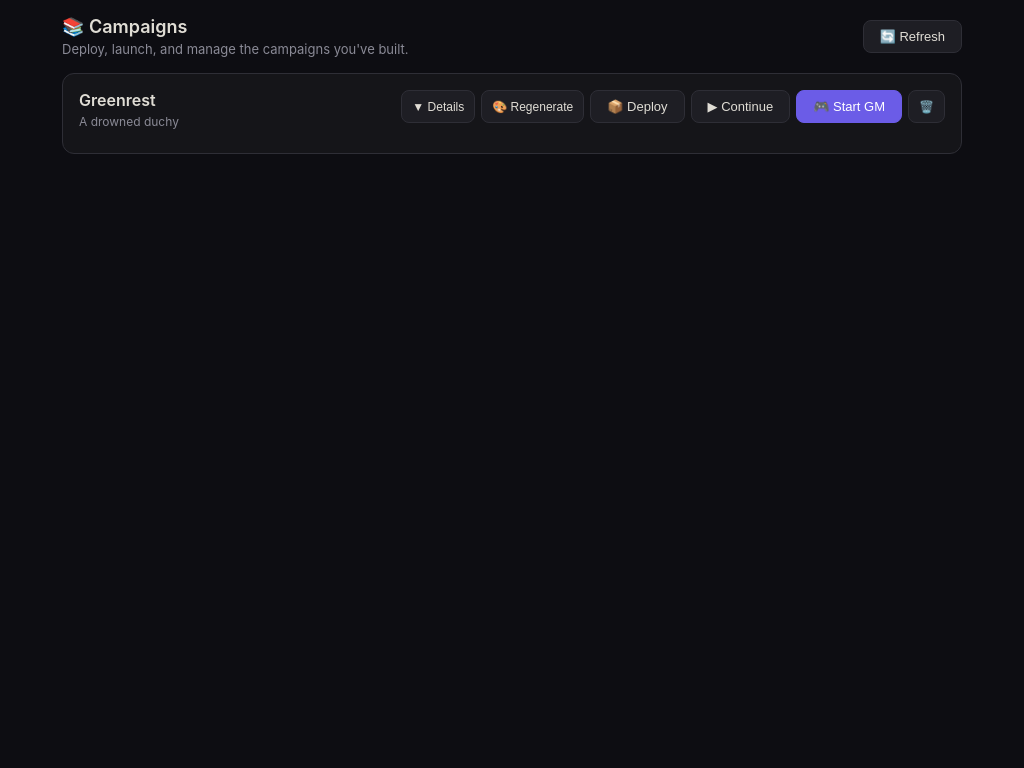
it: CampaignStart — campaign details › loads the details once and shows them
This screenshot has width=1024, height=768.
Click the button "▼ Details" at coordinates (438, 106), box [401,90,475,123]
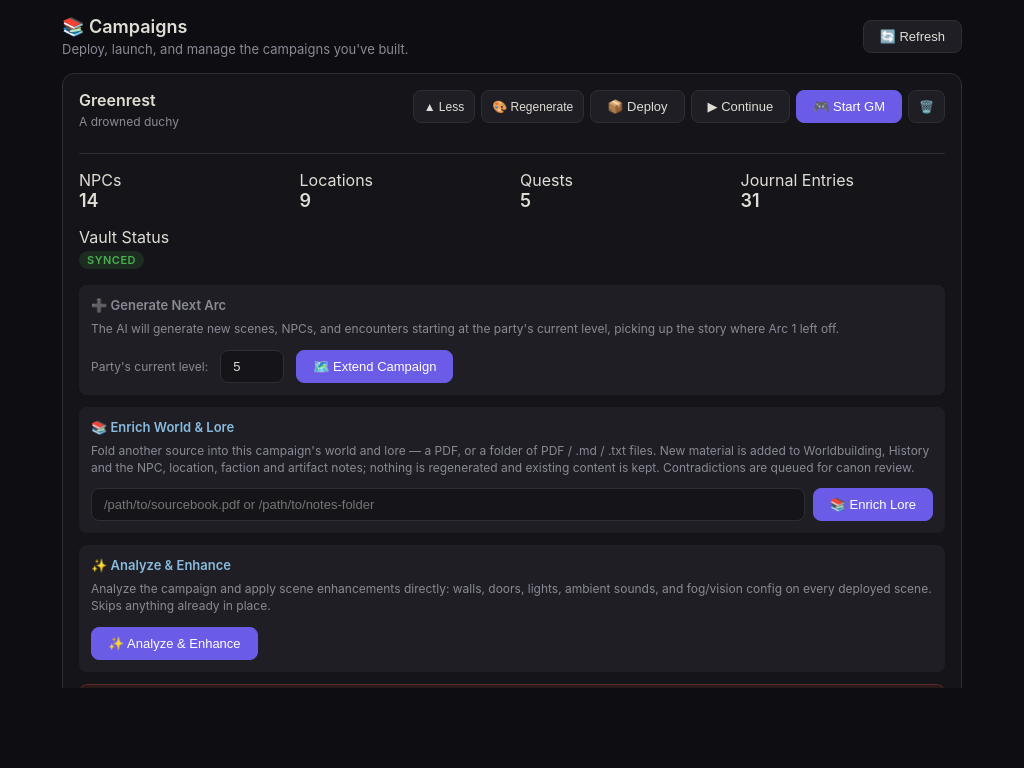
Expected: the text "14" is shown, [79,190,99,211]
Expected: the text "9" is shown, [300,190,311,211]
Expected: the text "5" is shown, [520,190,531,211]
